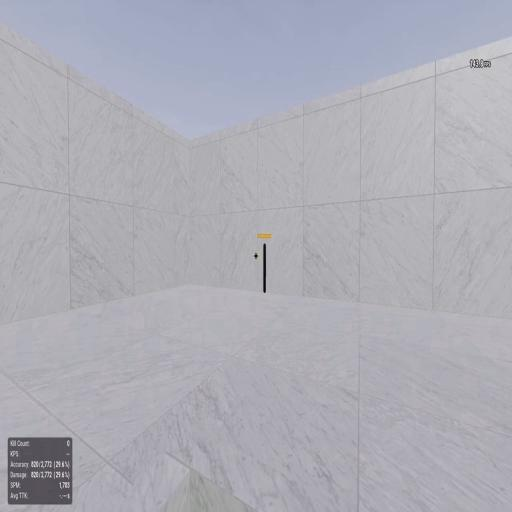Crosshair: (253, 252, 259, 260)
Target: (263, 243, 266, 293)
